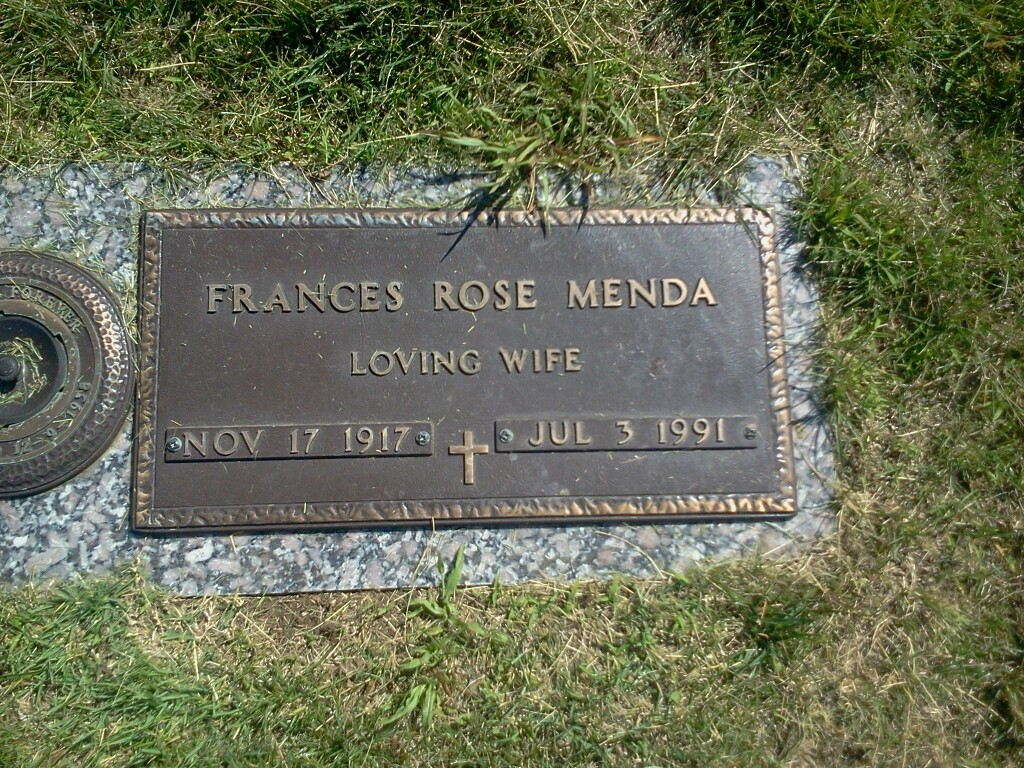flat: (133, 201, 796, 530)
